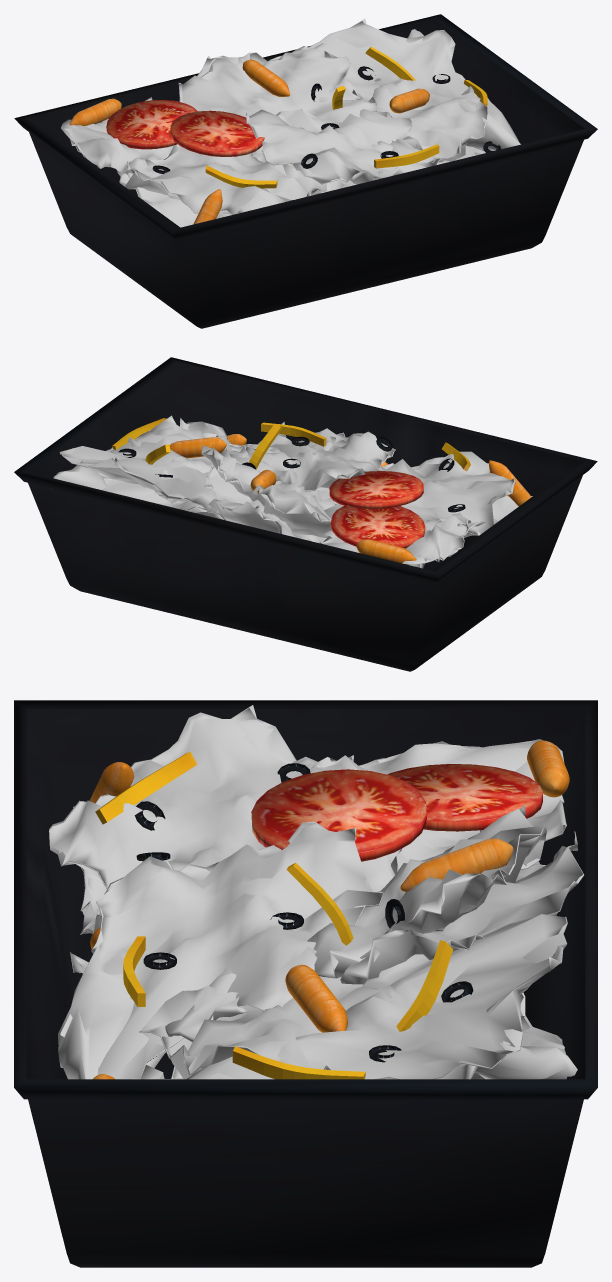
The model's file is salad.fbx.
3 renders of one model, top to bottom at view 1: azimuth 30°, elevation 25°; view 2: azimuth 150°, elevation 25°; view 3: azimuth 270°, elevation 25°, orthographic. The views are drawn at different scales.
Parts seen in each view (by area): view 1: Container (exterior), lettuce.001, Container (interior), Tomatoes, Carrots, Yellow Bell Peppers, Olives; view 2: Container (exterior), lettuce.001, Container (interior), Tomatoes, Carrots, Yellow Bell Peppers, Olives; view 3: lettuce.001, Container (exterior), Container (interior), Tomatoes, Carrots, Yellow Bell Peppers, Olives.
Part boxes in pixels (x1,y1,x2,y2): Container (exterior): (14, 14, 597, 328); lettuce.001: (61, 18, 520, 227); Container (interior): (27, 19, 584, 228); Tomatoes: (106, 99, 264, 156); Carrots: (69, 59, 429, 224); Yellow Bell Peppers: (205, 46, 487, 188); Olives: (152, 66, 500, 173); Container (exterior): (14, 357, 597, 671); lettuce.001: (53, 415, 532, 568); Container (interior): (27, 362, 584, 571); Tomatoes: (329, 471, 425, 548); Carrots: (169, 434, 531, 564); Yellow Bell Peppers: (112, 418, 470, 471); Olives: (118, 436, 465, 512); lettuce.001: (49, 705, 584, 1079); Container (exterior): (14, 700, 597, 1267); Container (interior): (26, 709, 585, 1079); Tomatoes: (251, 764, 542, 861); Carrots: (89, 740, 569, 1079); Yellow Bell Peppers: (95, 752, 453, 1079); Olives: (134, 763, 473, 1062).
Size of the model in its own units: 1.28 by 0.4388 by 0.8154.
